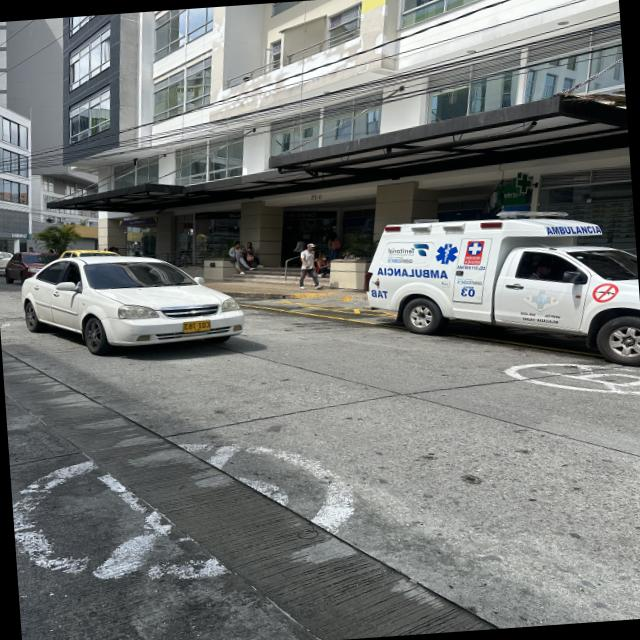number plate: (183, 319, 211, 332)
